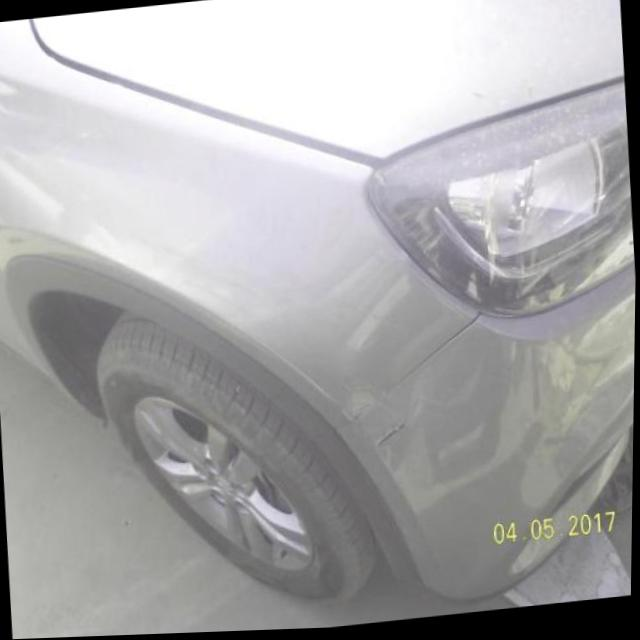Car-Damage: (343, 381, 401, 441), (470, 84, 538, 111), (377, 422, 412, 453)
